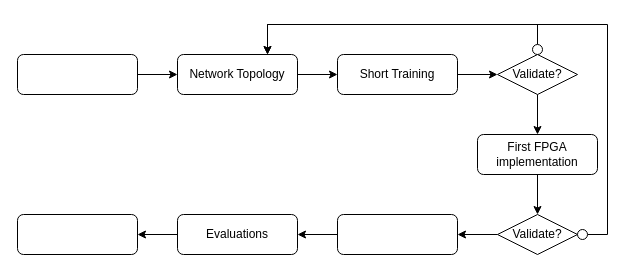
This 633x272 diagram has some shape labels left out. The centre of each missing label's shape, as x and y in pixels:
"Dataset Selection" goes at (x=77, y=74).
"Long Training" goes at (x=397, y=234).
"Metrics" goes at (x=77, y=234).
